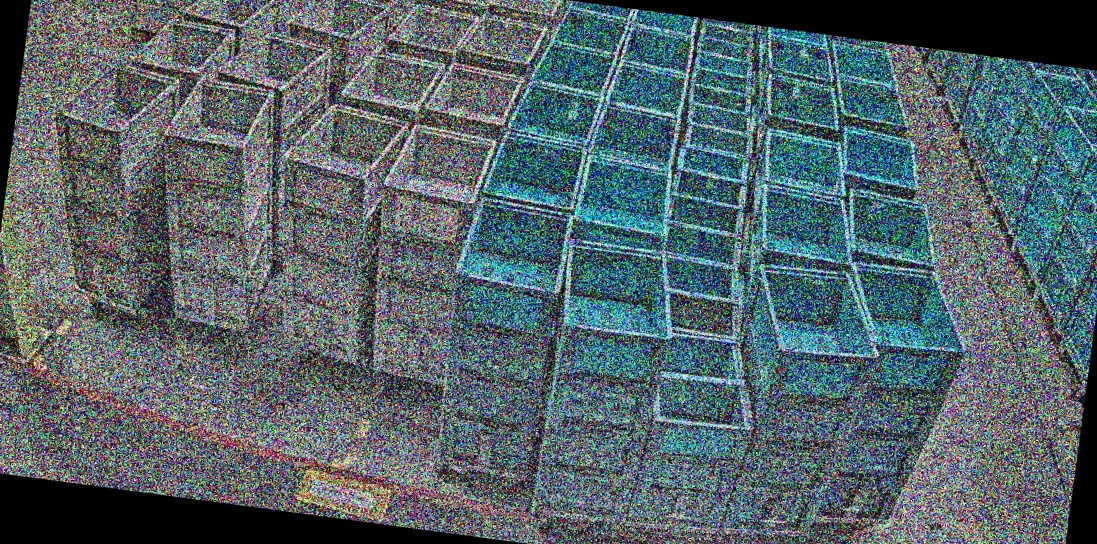4G: (29, 52, 196, 313), (256, 97, 413, 365), (139, 74, 297, 331), (358, 120, 500, 385)
B4: (713, 257, 890, 544), (529, 236, 685, 527), (816, 260, 978, 535), (429, 196, 577, 479)
B8: (624, 328, 766, 537)
